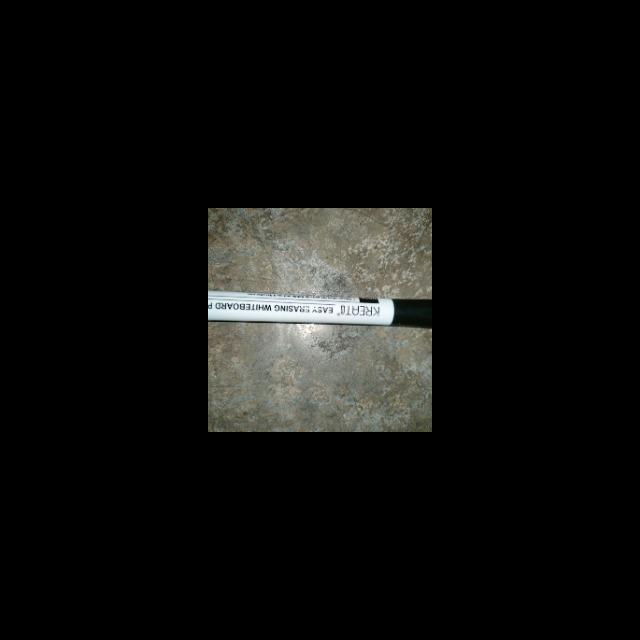plastic: (208, 280, 432, 335)
